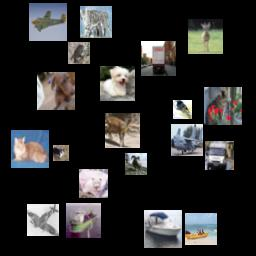airplane: (29, 3, 67, 41), (27, 204, 59, 236), (171, 124, 203, 156)
bird: (173, 100, 192, 119)
cat: (204, 87, 242, 125), (11, 130, 49, 168), (80, 6, 112, 38), (79, 169, 108, 198), (53, 145, 69, 161)
deer: (105, 113, 140, 148), (188, 19, 223, 54), (125, 153, 147, 175)
dog: (37, 72, 75, 110), (100, 66, 135, 101)
frog: (68, 42, 90, 64)
ship: (144, 210, 182, 248), (66, 203, 101, 238), (185, 213, 217, 245)
truck: (141, 41, 176, 76), (205, 141, 234, 170)
